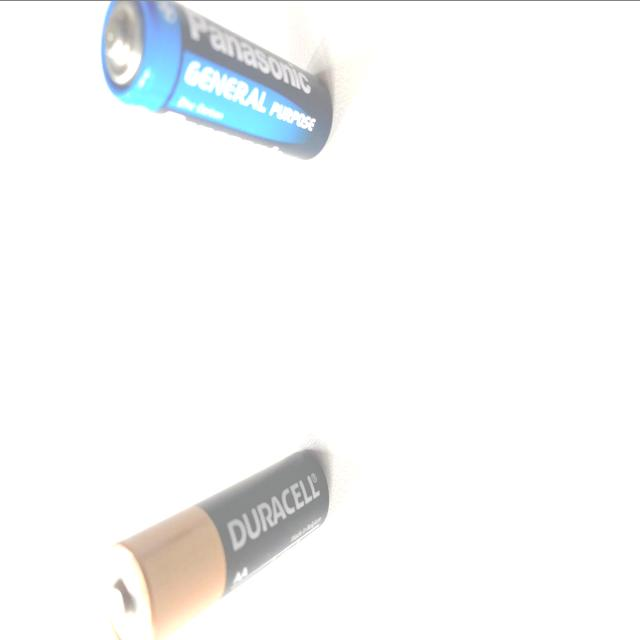AA: (97, 438, 332, 640), (96, 1, 336, 164)
